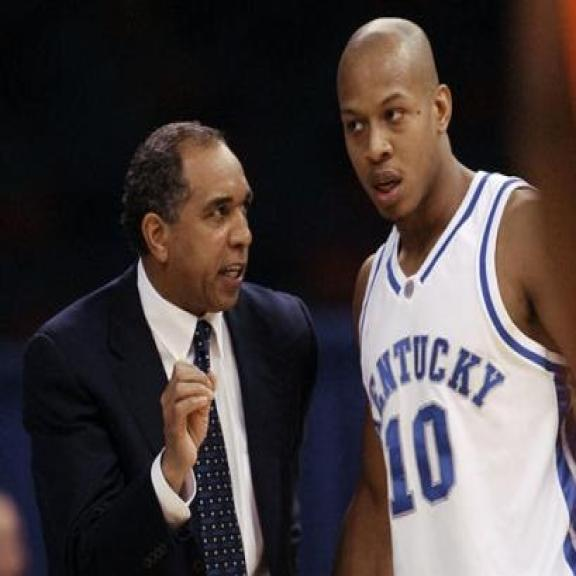face: (341, 44, 459, 235), (144, 154, 256, 319)
